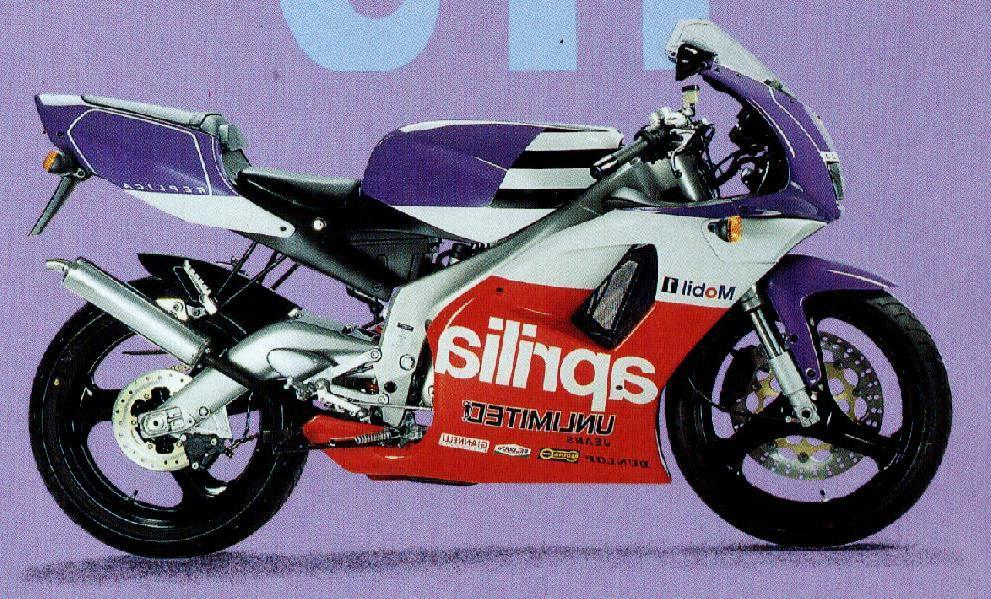motorcycle: (23, 8, 968, 583)
